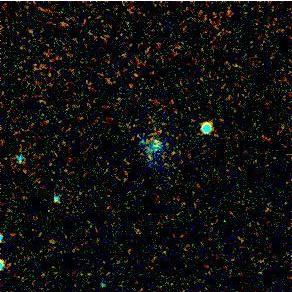star: (159, 136, 189, 166)
